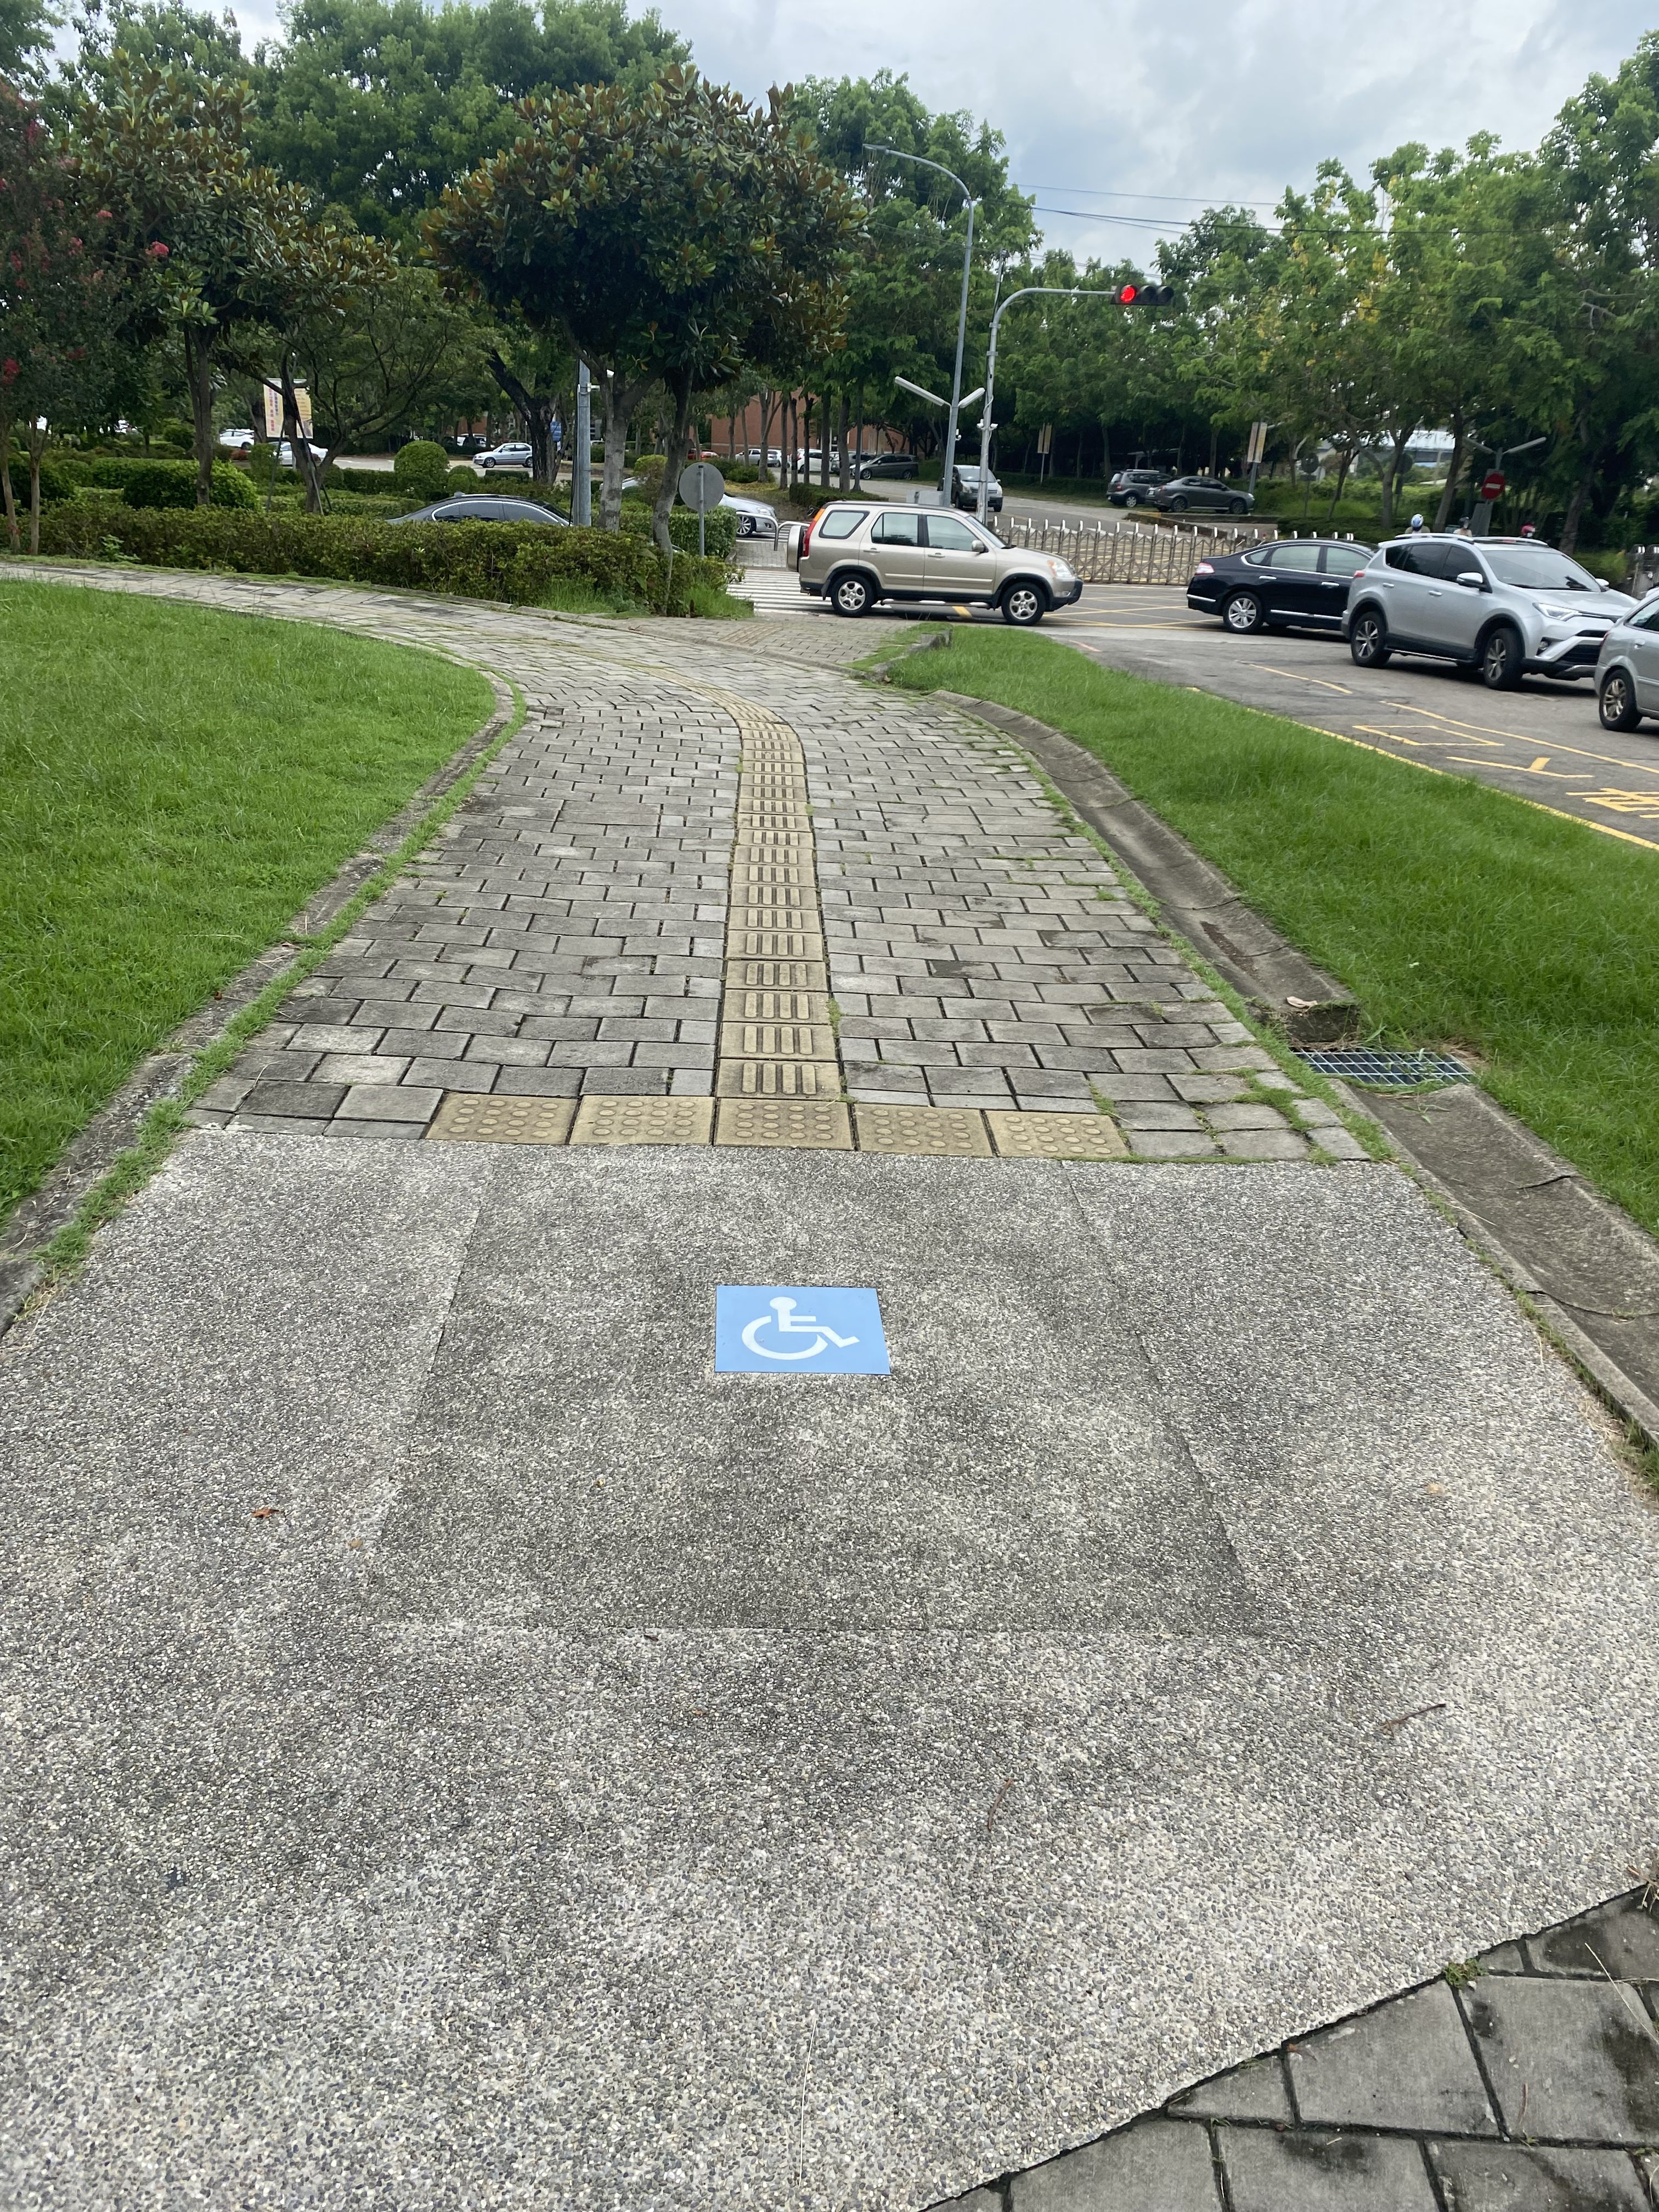sidewalk: (12, 540, 1659, 2212)
